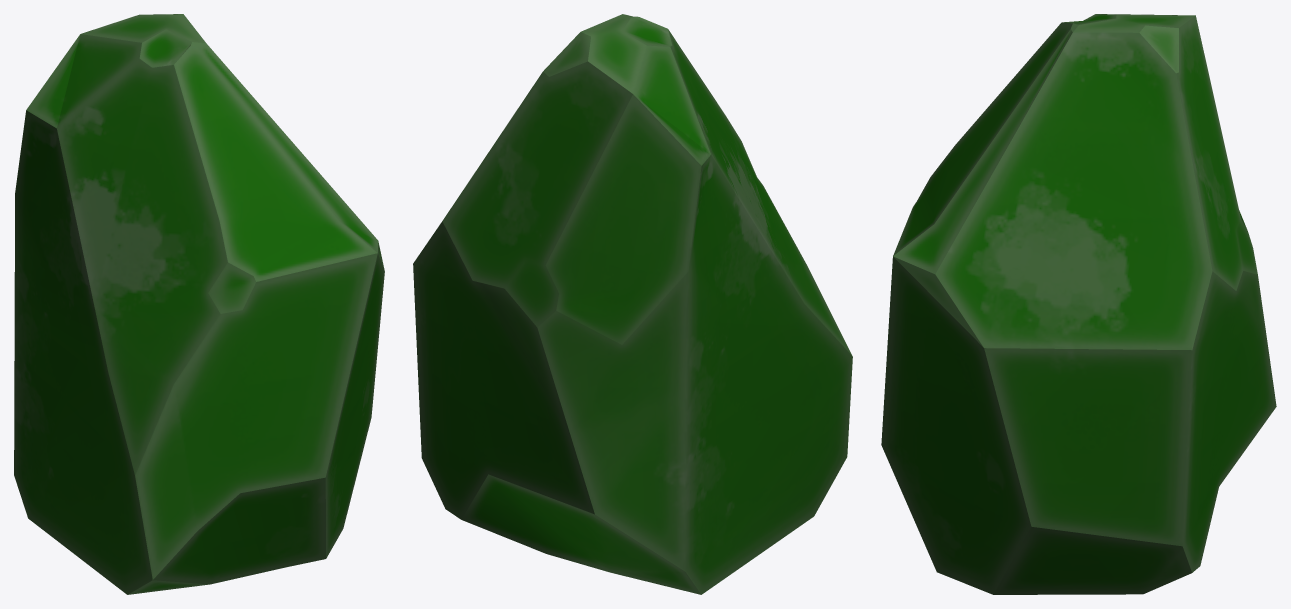
Rendered from Rock_07_01.fbx.
The picture shows the model from 3 angles, left to right: view 1: azimuth 30°, elevation 25°; view 2: azimuth 150°, elevation 25°; view 3: azimuth 270°, elevation 25°; orthographic projection. The views are drawn at different scales.
Parts seen in each view (by area): view 1: Rock_07_01; view 2: Rock_07_01; view 3: Rock_07_01.
Boxes of the visible parts, <box> form: Rock_07_01: <box>14,14,384,594</box>; Rock_07_01: <box>413,14,852,594</box>; Rock_07_01: <box>881,14,1276,594</box>.
Size of the model in its own units: 1.21 by 1.94 by 1.35.
